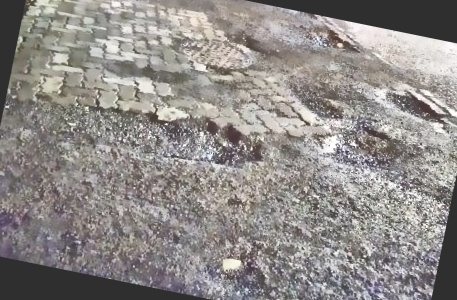pothole: (68, 88, 268, 177), (312, 116, 407, 175), (382, 88, 450, 125), (301, 20, 364, 57), (299, 93, 344, 121), (108, 0, 157, 4)
